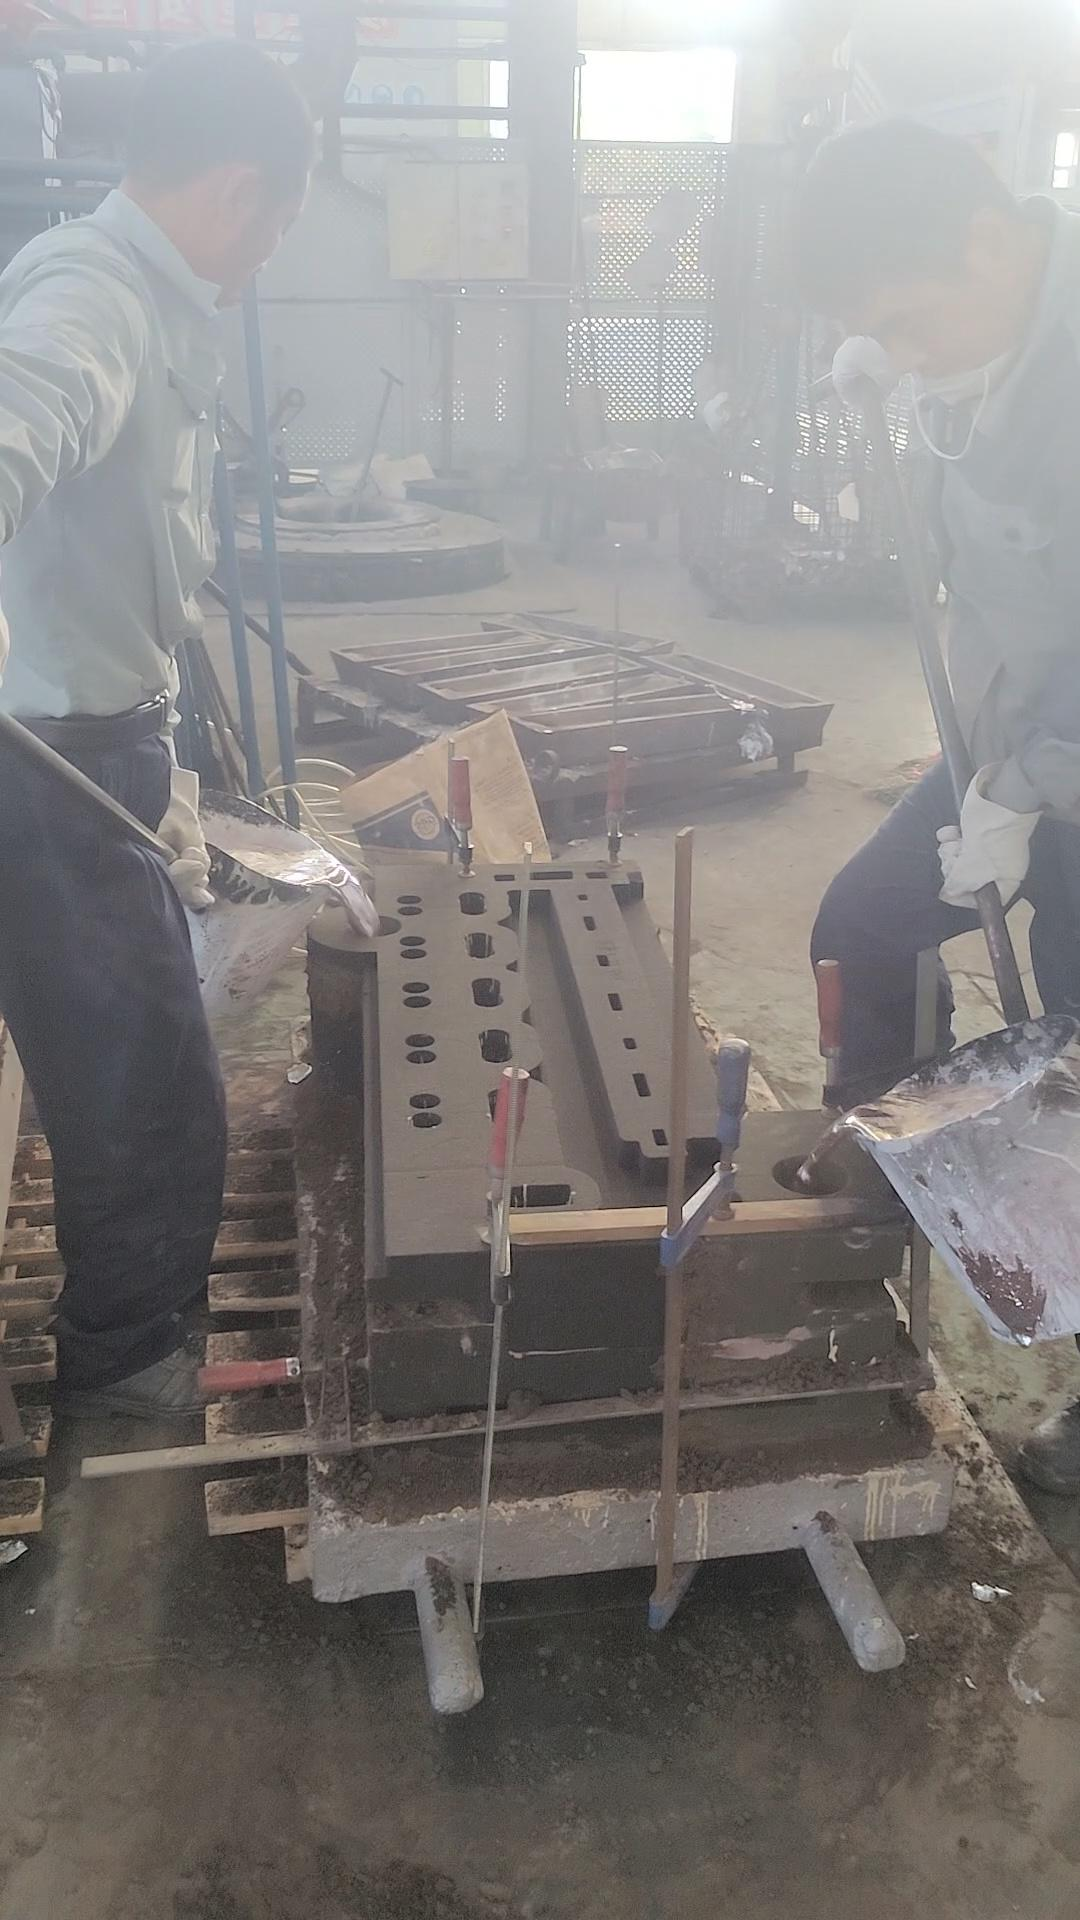pouring hole: (771, 1153, 849, 1197), (343, 913, 404, 939)
